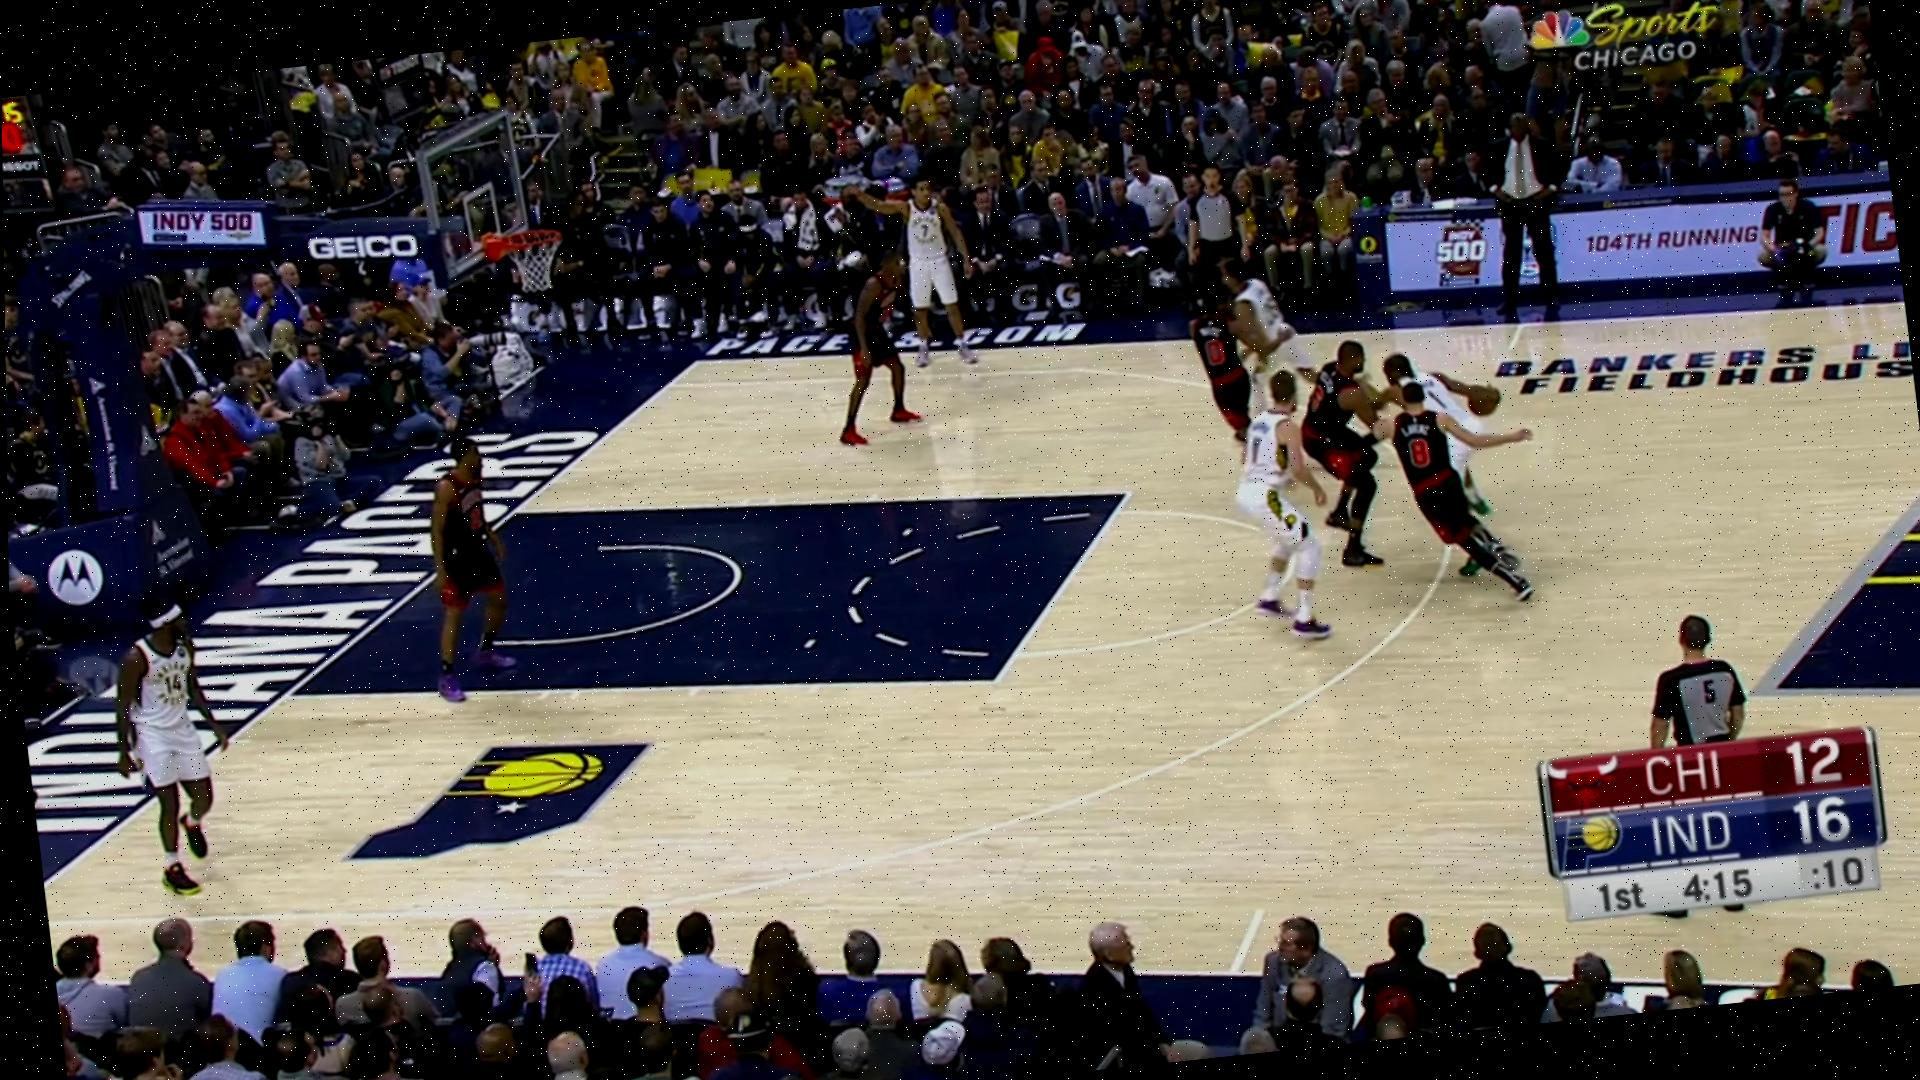no_foul: (1315, 310, 1513, 563)
